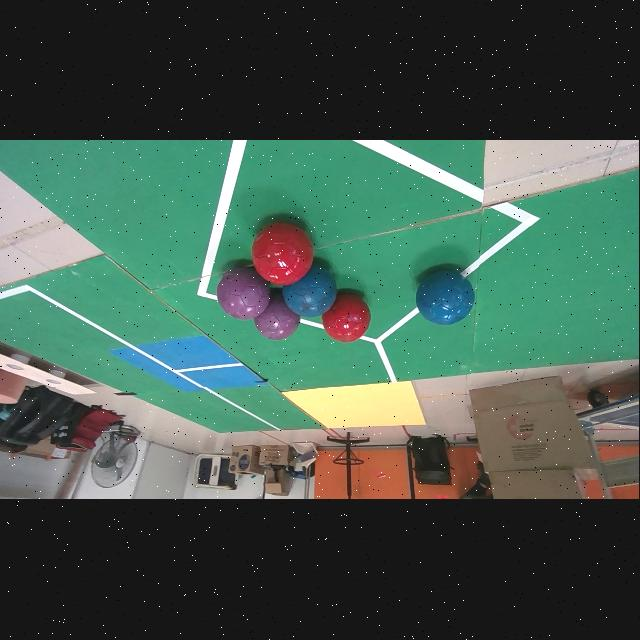B: (416, 271, 475, 326), (283, 265, 338, 318)
P: (218, 268, 270, 321), (254, 293, 300, 340)
R: (253, 223, 315, 286), (322, 294, 371, 343)
